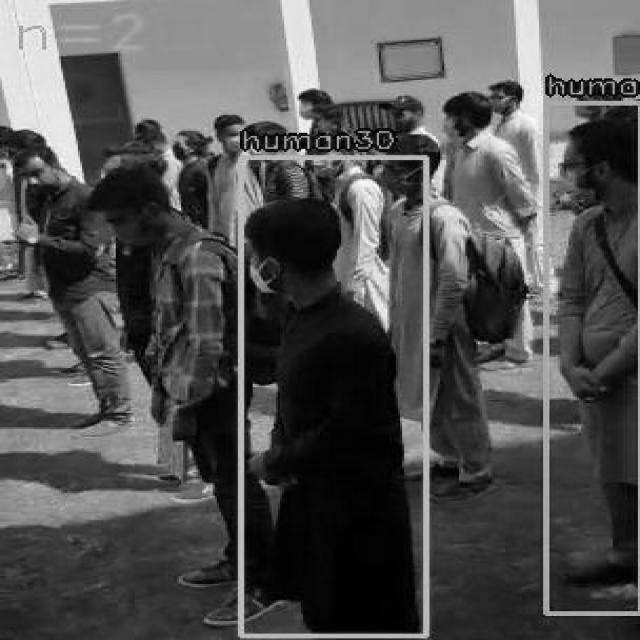person: (238, 155, 426, 635), (543, 101, 640, 613)
